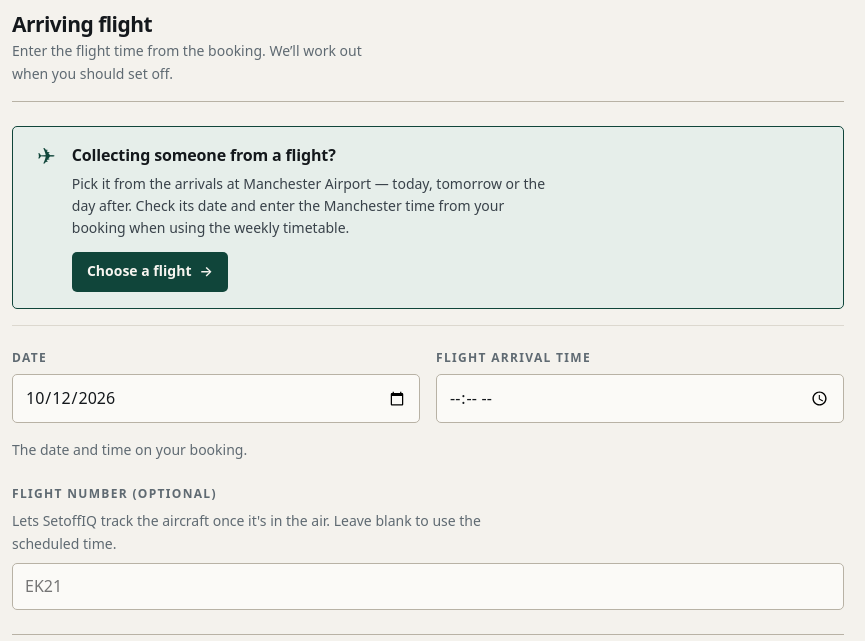
Test case: the timetable, when the schedule has nothing to say › filters a long list down to one flight
Click the button "Collecting someone from a flight": click(428, 217) [12,126,844,309]
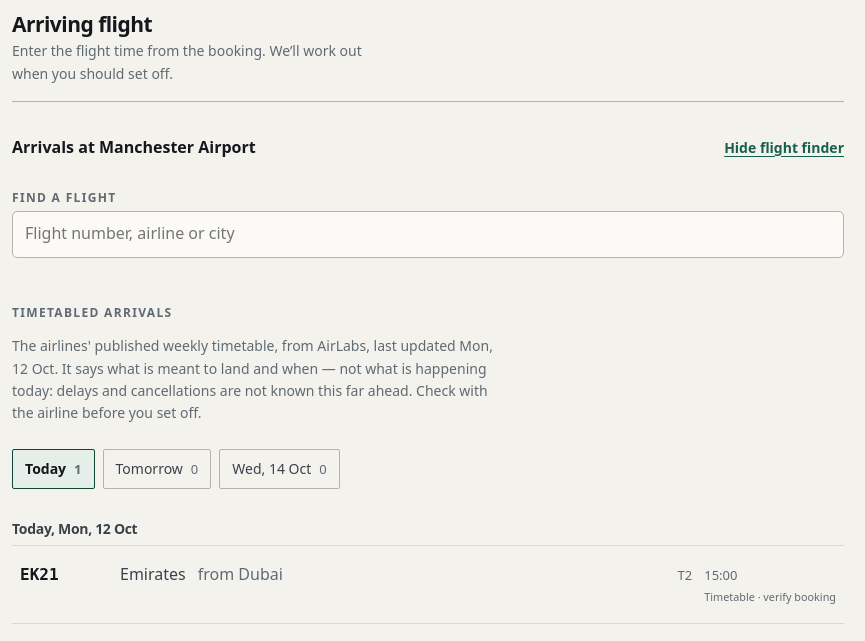
Now the button "EK21 Emirates from Dubai T2 15:00Timetable · verify booking" is shown, box [12,546,844,624]
In the search field labelled "Find a flight": (428, 234) [12,211,844,258], type "BA 1360"
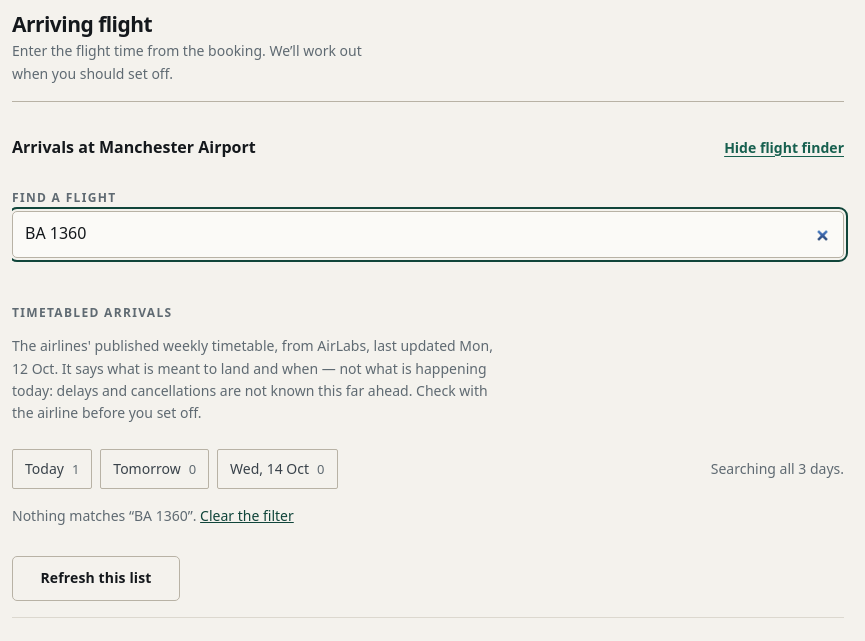
Now the button "EK21" is gone
Now the text "Nothing matches “BA 1360”. Clear the filter" is shown, box [12,505,294,528]
